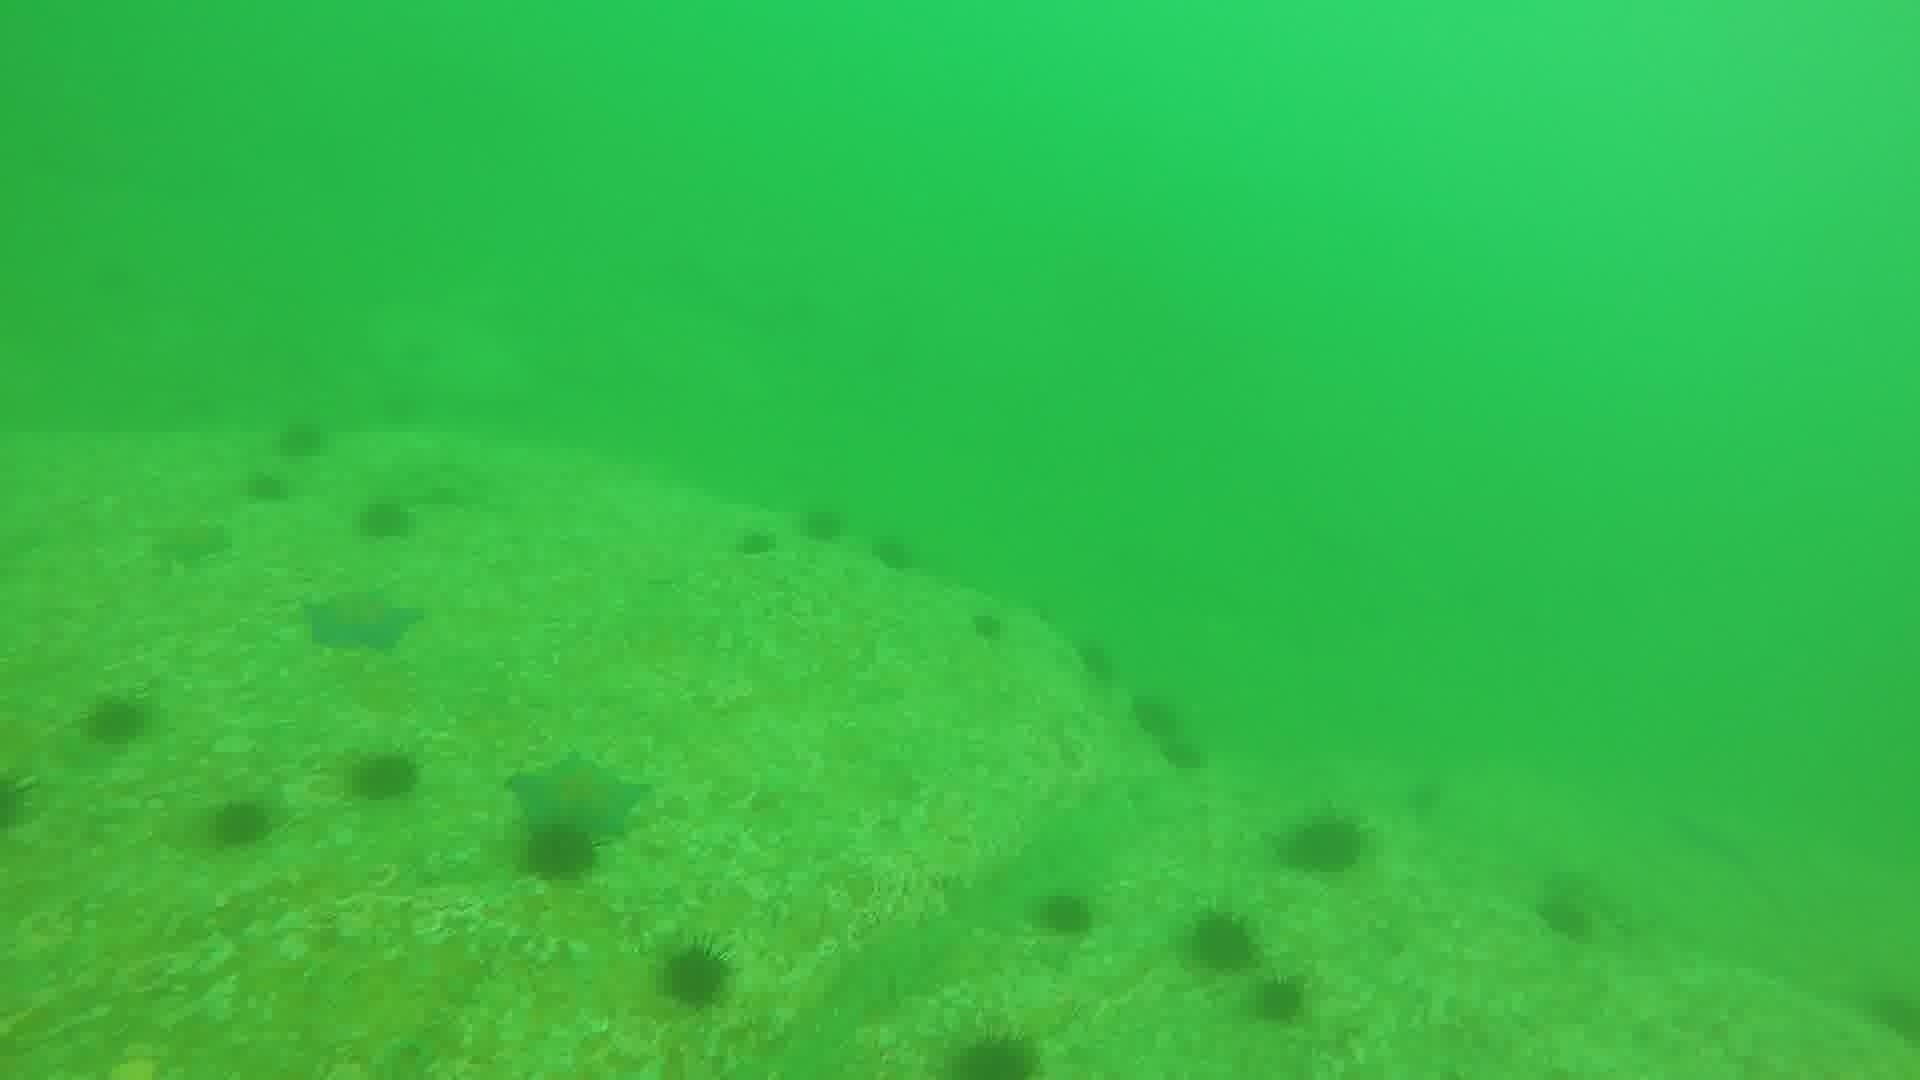echinus: (1276, 808, 1370, 880), (654, 938, 737, 1013), (517, 818, 603, 887), (1182, 906, 1263, 976), (943, 1026, 1044, 1077), (344, 745, 423, 807), (78, 688, 153, 752), (204, 793, 277, 855), (1532, 884, 1602, 945), (1030, 886, 1100, 943), (1246, 972, 1312, 1029), (353, 493, 417, 546), (1153, 724, 1211, 775), (272, 413, 331, 463), (1069, 634, 1122, 687), (1, 766, 40, 839), (796, 500, 849, 547), (1402, 773, 1449, 822), (869, 529, 919, 575), (1129, 698, 1179, 742), (241, 467, 291, 508), (372, 388, 422, 429), (731, 521, 779, 562), (967, 605, 1009, 646)
starfish: (506, 749, 651, 847), (301, 584, 425, 659), (145, 513, 235, 574)
